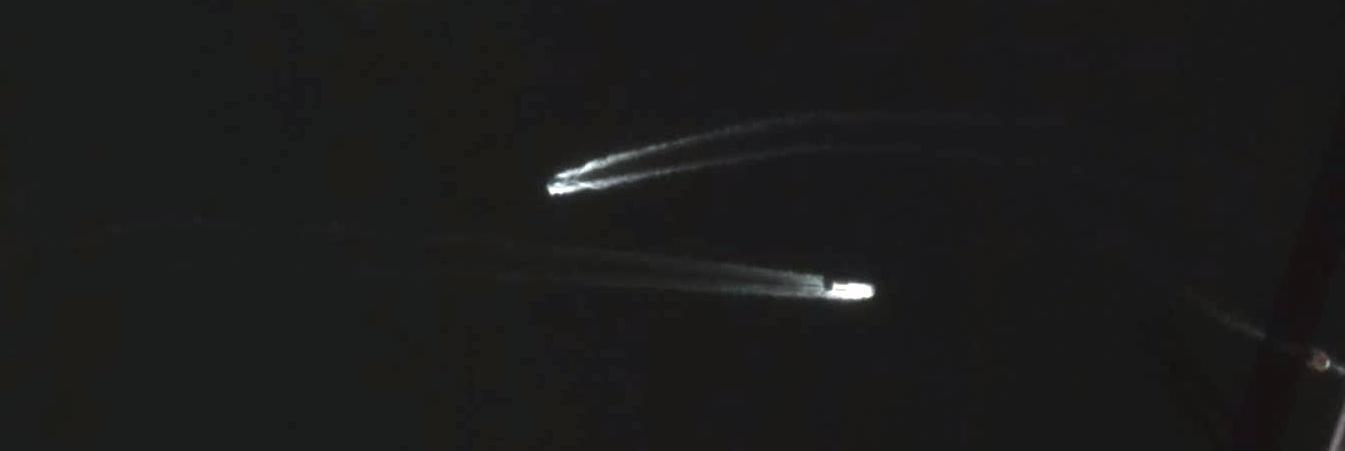person: (831, 281, 874, 299), (546, 177, 572, 189)
